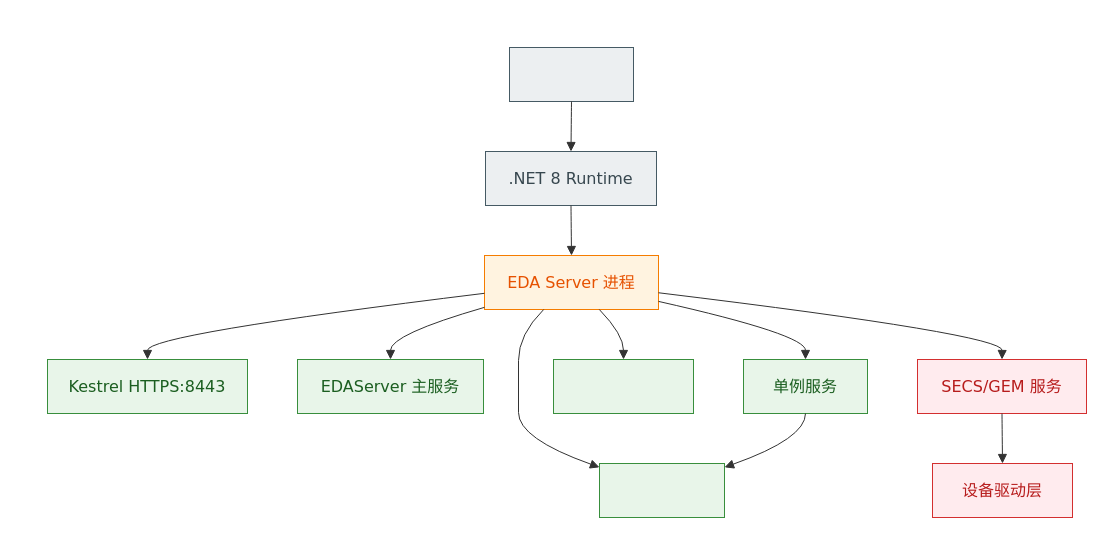
Image size: 1104x535. Some labels were removed from this diagram. The centre of each missing label's shape, as x and y in pixels:
"DCP 引擎" goes at [661,490].
"后台定时器" goes at [623,386].
"操作系统" goes at [571,74].
